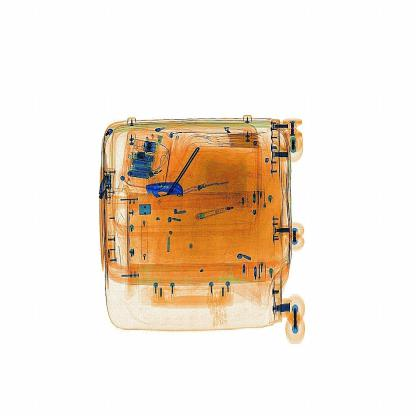knife: (139, 174, 189, 198)
